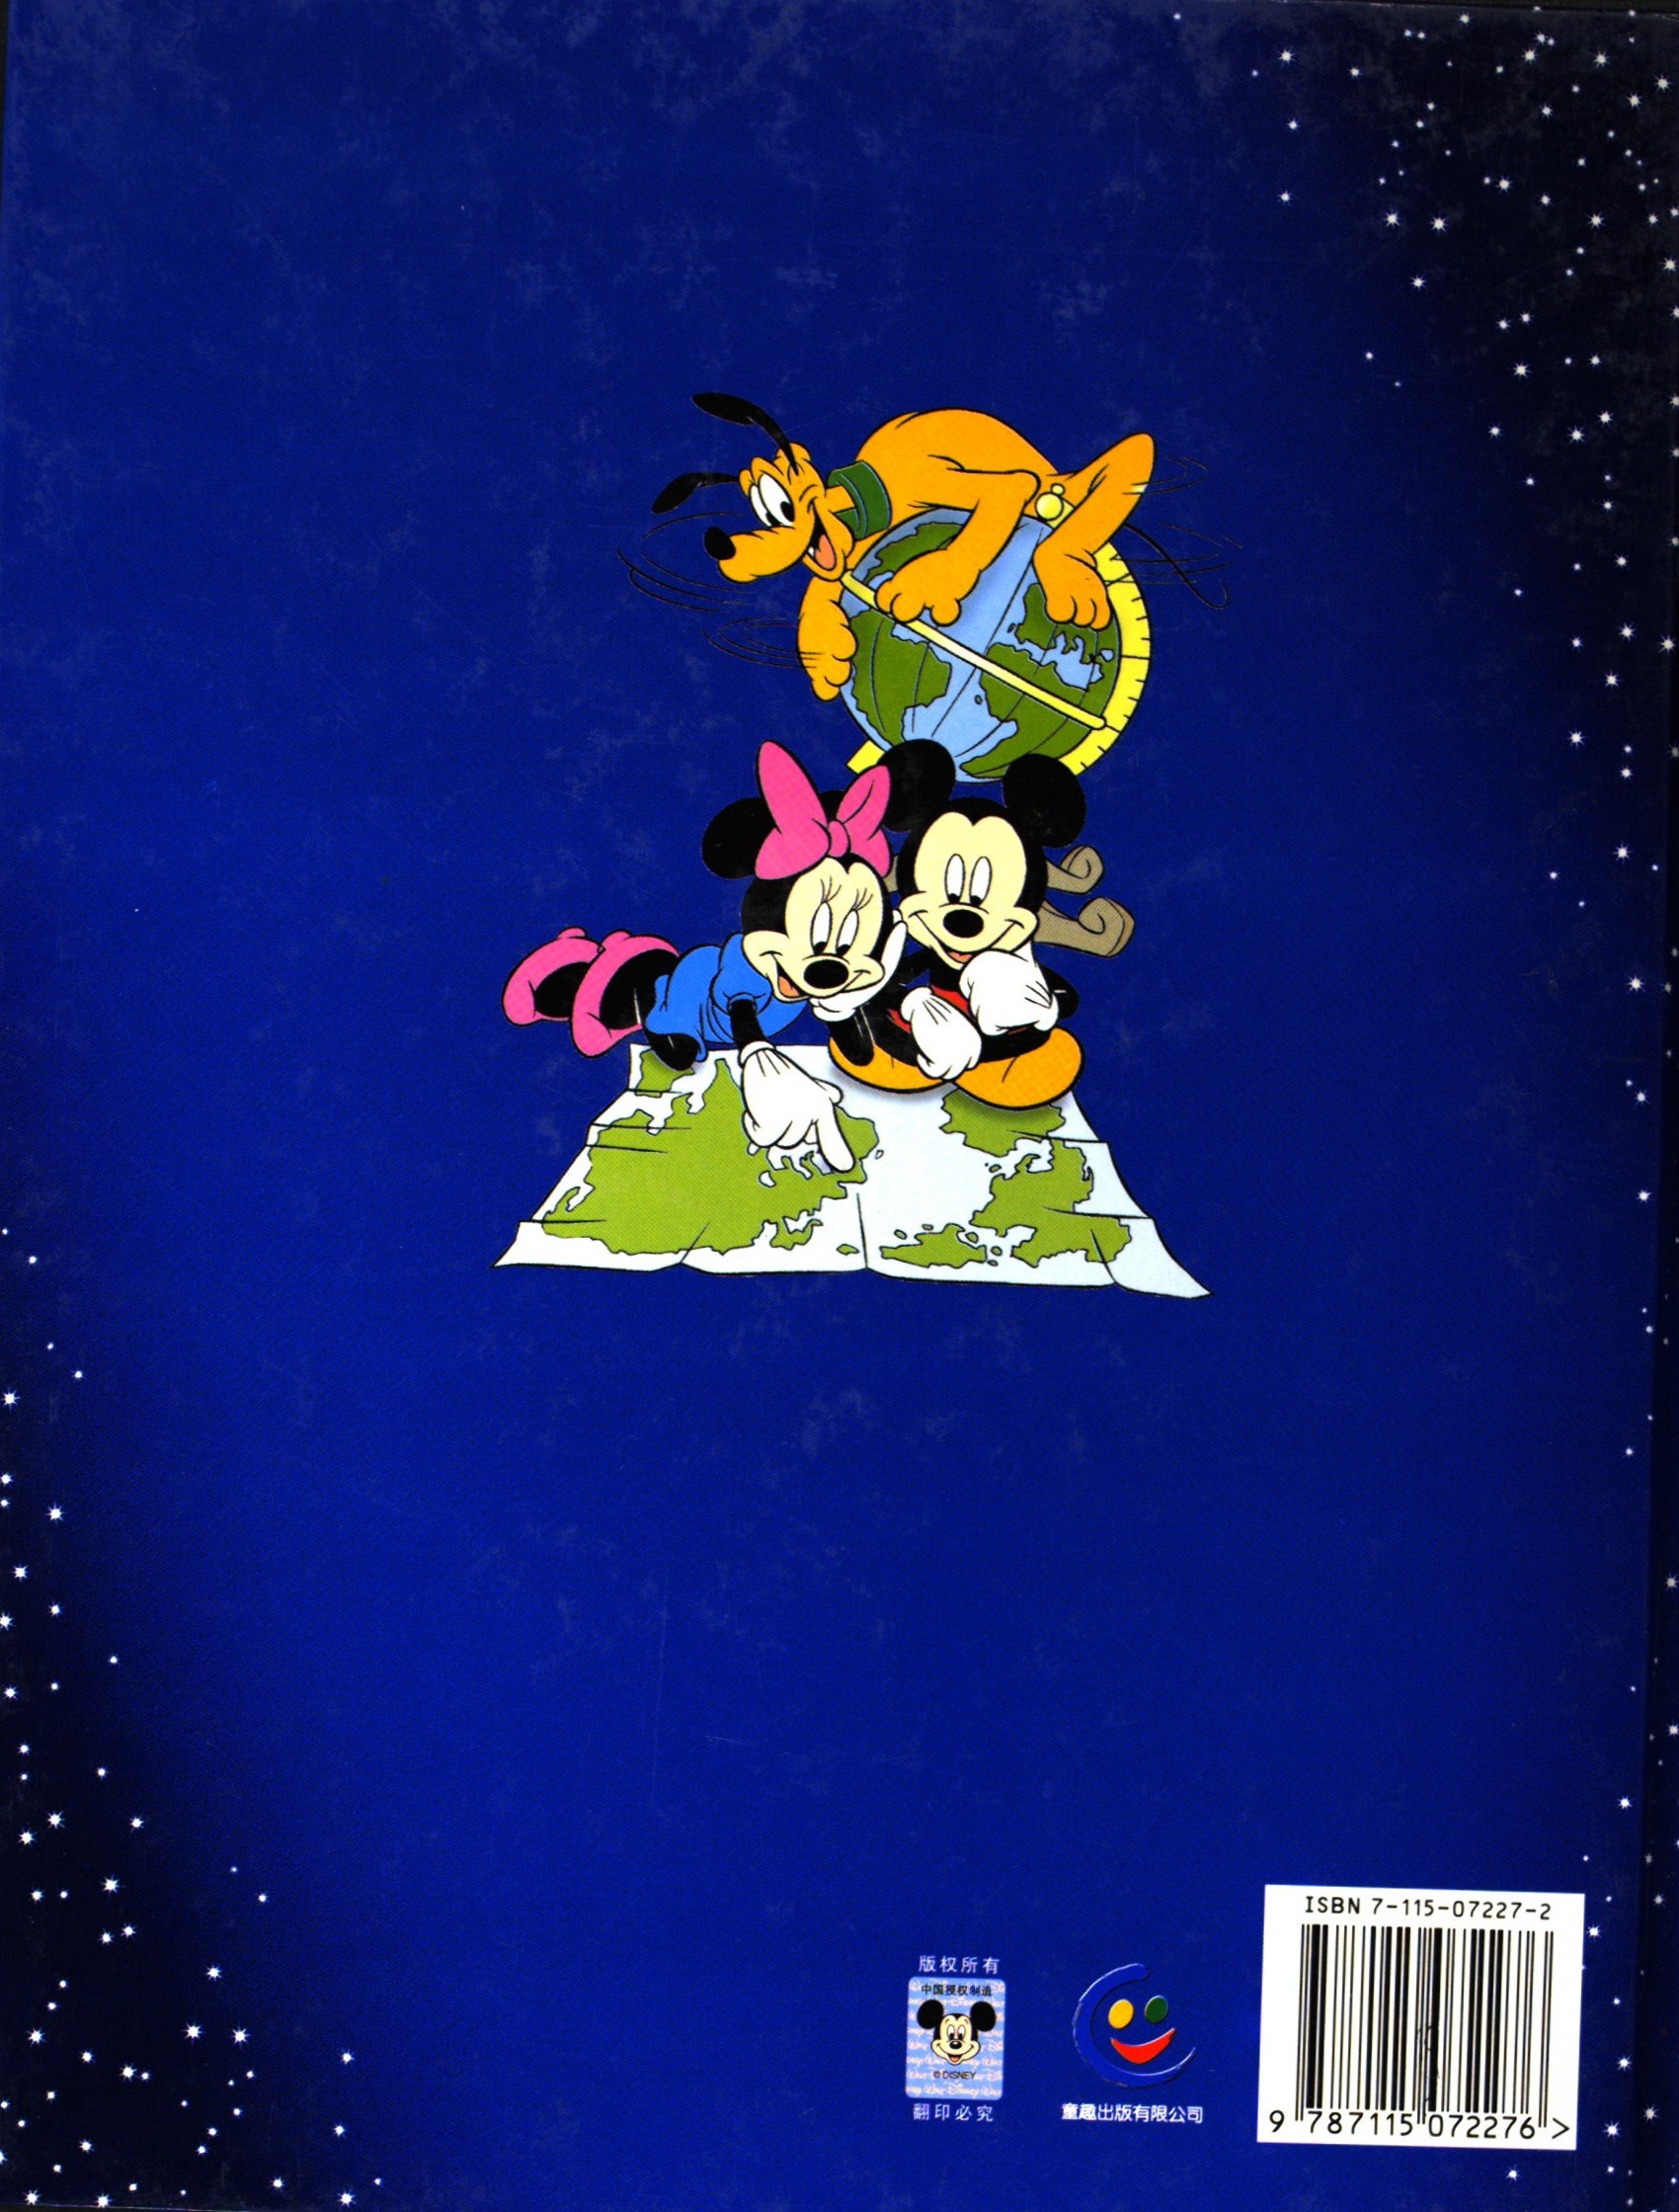barcode: (1261, 1882, 1577, 2143)
